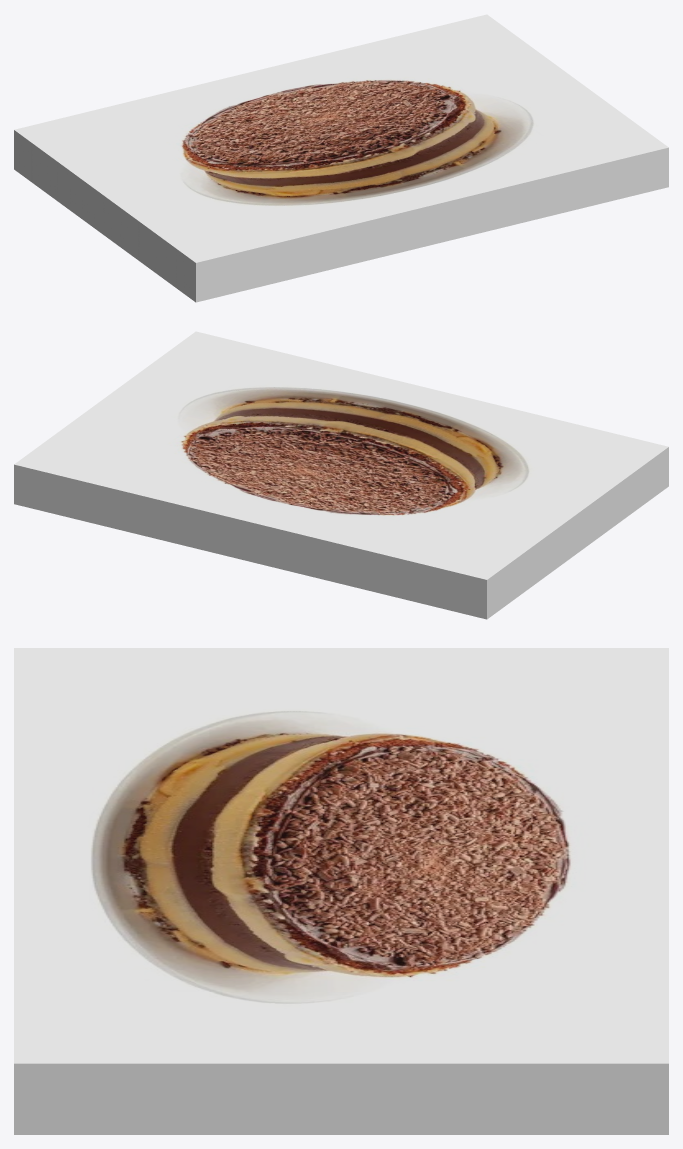
Rendered from tortatresamores.glb.
3 renders of one model, top to bottom at view 1: azimuth 30°, elevation 25°; view 2: azimuth 150°, elevation 25°; view 3: azimuth 270°, elevation 25°, orthographic. The views are drawn at different scales.
Size of the model in its own units: 0.1 by 0.008 by 0.0666.
Materials: 1 (1 with a texture image).
